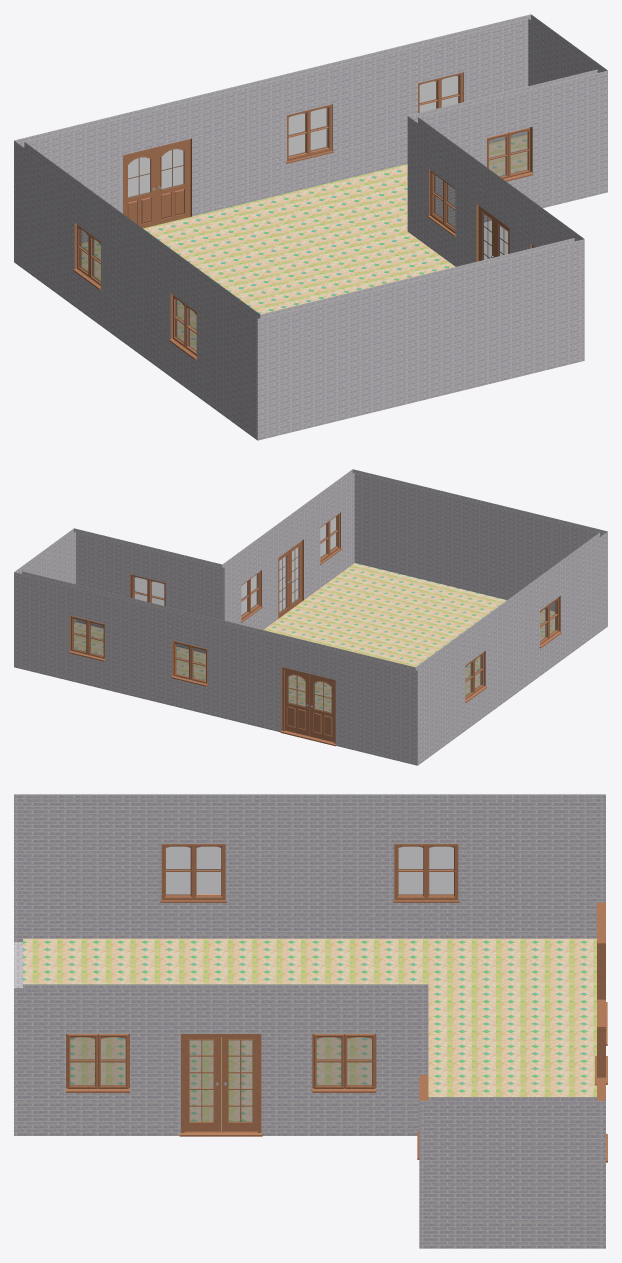
The model's file is telhado34a.gltf.
The picture shows the model from 3 angles, top to bottom: view 1: azimuth 30°, elevation 25°; view 2: azimuth 150°, elevation 25°; view 3: azimuth 270°, elevation 25°; orthographic projection. The views are drawn at different scales.
Visible parts, largest first — view 1: root; view 2: root; view 3: root.
Part boxes in pixels (<box>): root: <box>14,14,607,440</box>; root: <box>14,469,607,765</box>; root: <box>14,794,607,1248</box>.
Bounding box in the file's own units: 13.64 × 3.06 × 11.14.
7 materials, 4 textured.
